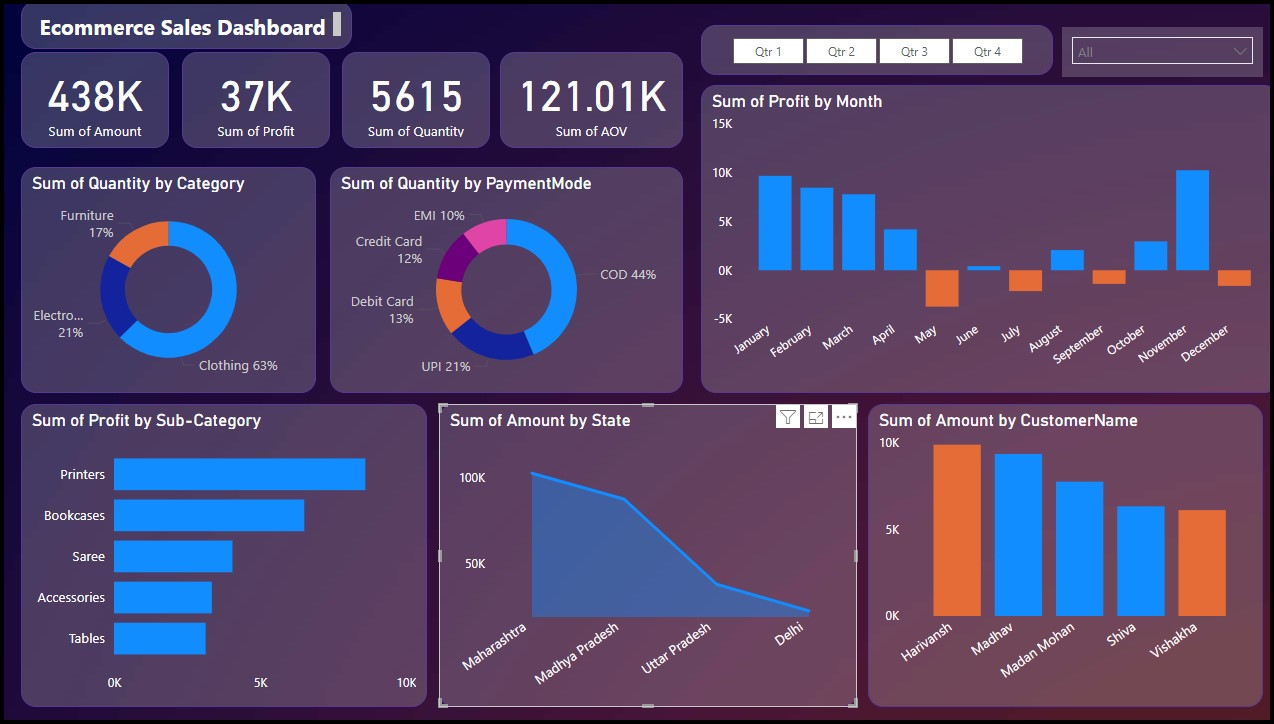

The dashboard page shown, as its layout file describes it:
{"tool":"powerbi","page":{"name":"Page 1","canvas":[1280,720],"ordinal":0},"visuals":[{"type":"textbox","box":[22.2,0,331.1,47.8],"z":0},{"type":"columnChart","fields":{"Y":["Details.Profit"],"Category":["Orders.Order Date.Variation.Date Hierarchy.Month"]},"box":[702.2,84.4,577.8,307.8],"z":1000},{"type":"barChart","fields":{"Category":["Details.Sub-Category"],"Y":["Details.Profit"]},"box":[22.2,403.3,405.6,302.2],"z":2000},{"type":"donutChart","fields":{"Category":["Details.Category"],"Y":["Details.Quantity"]},"box":[22.2,165.6,294.4,226.7],"z":3000},{"type":"donutChart","fields":{"Y":["Details.Quantity"],"Category":["Details.PaymentMode"]},"box":[331.1,165.6,353.3,226.7],"z":4000},{"type":"card","fields":{"Values":["Details.Amount"]},"box":[22.2,51.1,147.8,95.6],"z":5000},{"type":"card","fields":{"Values":["Details.Profit"]},"box":[183.3,51.1,147.8,95.6],"z":6000},{"type":"card","fields":{"Values":["Details.Quantity"]},"box":[343.3,51.1,147.8,95.6],"z":7000},{"type":"card","fields":{"Values":["Details.Column"]},"box":[501.1,51.1,183.3,95.6],"z":8000},{"type":"stackedAreaChart","fields":{"Category":["Orders.State"],"Y":["Details.Amount"]},"box":[440,403.3,417.8,302.2],"z":9000},{"type":"columnChart","fields":{"Category":["Orders.CustomerName"],"Y":["Details.Amount"]},"box":[868.9,403.3,395.6,302.2],"z":10000},{"type":"slicer","fields":{"Values":["Orders.Order Date.Variation.Date Hierarchy.Quarter"]},"box":[702.2,24.4,352.2,50],"z":11000},{"type":"slicer","fields":{"Values":["Orders.State"]},"box":[1063.3,25.6,201.1,50],"z":12000}]}

Visuals, with their boxes in screenshot pixels (x1, y1, x2, y2), scaled from the page's 1280x720 canvas onto the 1274x724 screenshot:
textbox: 22:0:352:48
columnChart - Details.Profit x Orders.Order Date.Variation.Date Hierarchy.Month: 699:85:1273:394
barChart - Details.Sub-Category x Details.Profit: 22:406:426:709
donutChart - Details.Category x Details.Quantity: 22:167:315:394
donutChart - Details.Quantity x Details.PaymentMode: 330:167:681:394
card - Details.Amount: 22:51:169:148
card - Details.Profit: 182:51:330:148
card - Details.Quantity: 342:51:489:148
card - Details.Column: 499:51:681:148
stackedAreaChart - Orders.State x Details.Amount: 438:406:854:709
columnChart - Orders.CustomerName x Details.Amount: 865:406:1259:709
slicer - Orders.Order Date.Variation.Date Hierarchy.Quarter: 699:25:1049:75
slicer - Orders.State: 1058:26:1258:76
